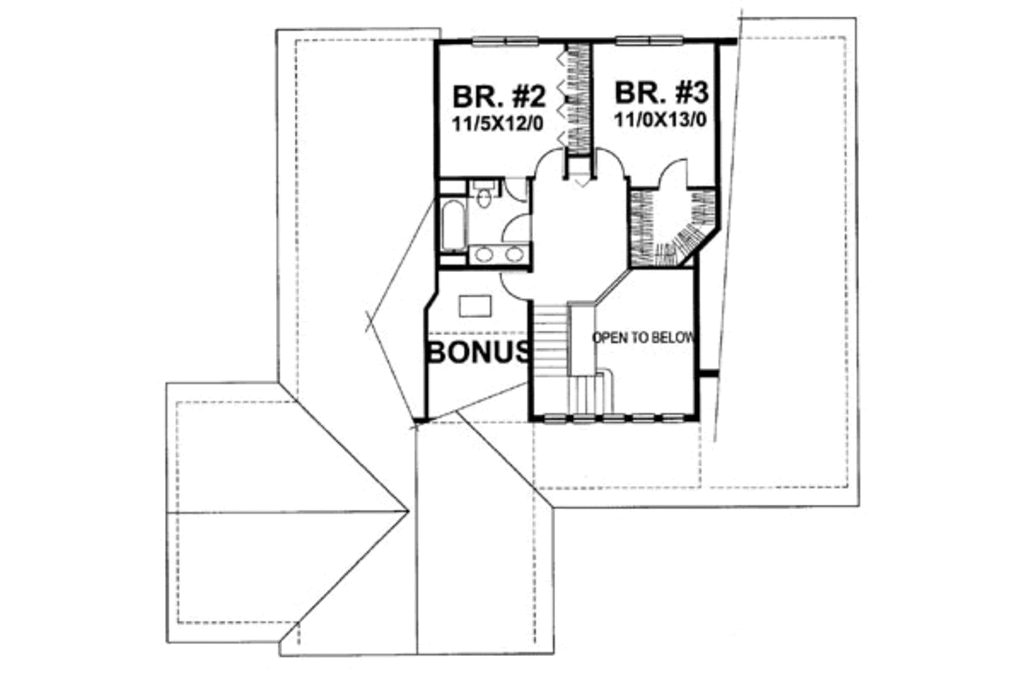door: (594, 142, 628, 186), (496, 212, 539, 244), (494, 268, 532, 301), (658, 156, 689, 193), (535, 151, 569, 180), (498, 179, 531, 207)
large_sink: (468, 183, 497, 213)
small_sink: (464, 243, 533, 264)
stairs: (529, 294, 631, 412)
tub: (434, 196, 469, 264)
window: (541, 412, 685, 427), (608, 27, 686, 49), (470, 34, 541, 48)
